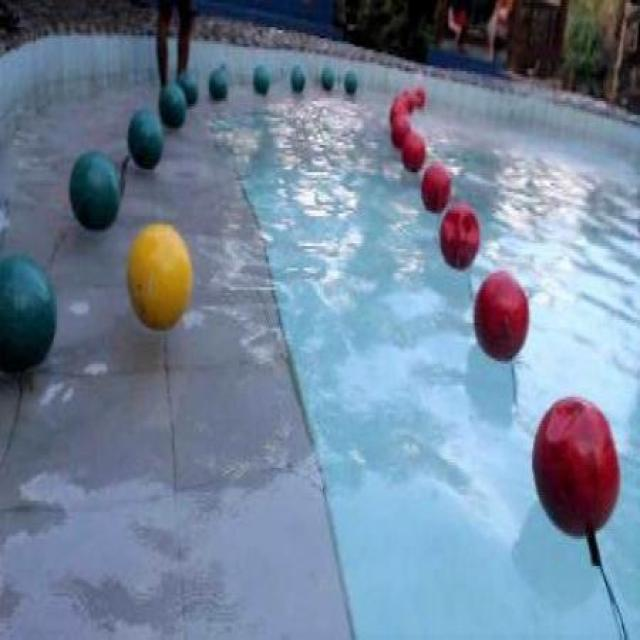buoy: (532, 394, 620, 536), (125, 221, 192, 331), (0, 251, 57, 375), (472, 268, 528, 362), (66, 150, 117, 233), (437, 200, 480, 271), (127, 108, 162, 171), (420, 162, 450, 212), (156, 81, 185, 127), (399, 129, 424, 173), (176, 70, 197, 105), (207, 67, 227, 102), (390, 114, 410, 149), (252, 64, 267, 94), (288, 65, 305, 89), (320, 66, 334, 93), (344, 70, 357, 94)
